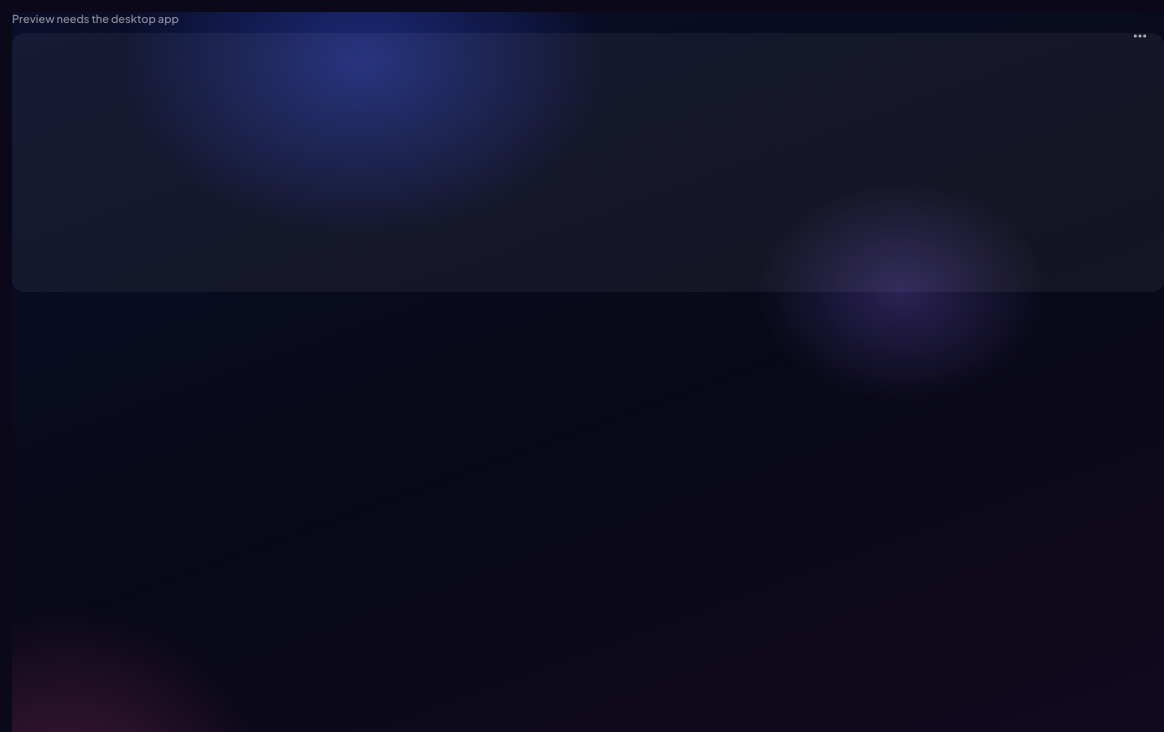
Scenario: WebViewWidget › renders the persisted home and lands the sandbox attributes
Right-click the element with test id "day-webview".
right_click(588, 152)  # box [12, 12, 1163, 292]
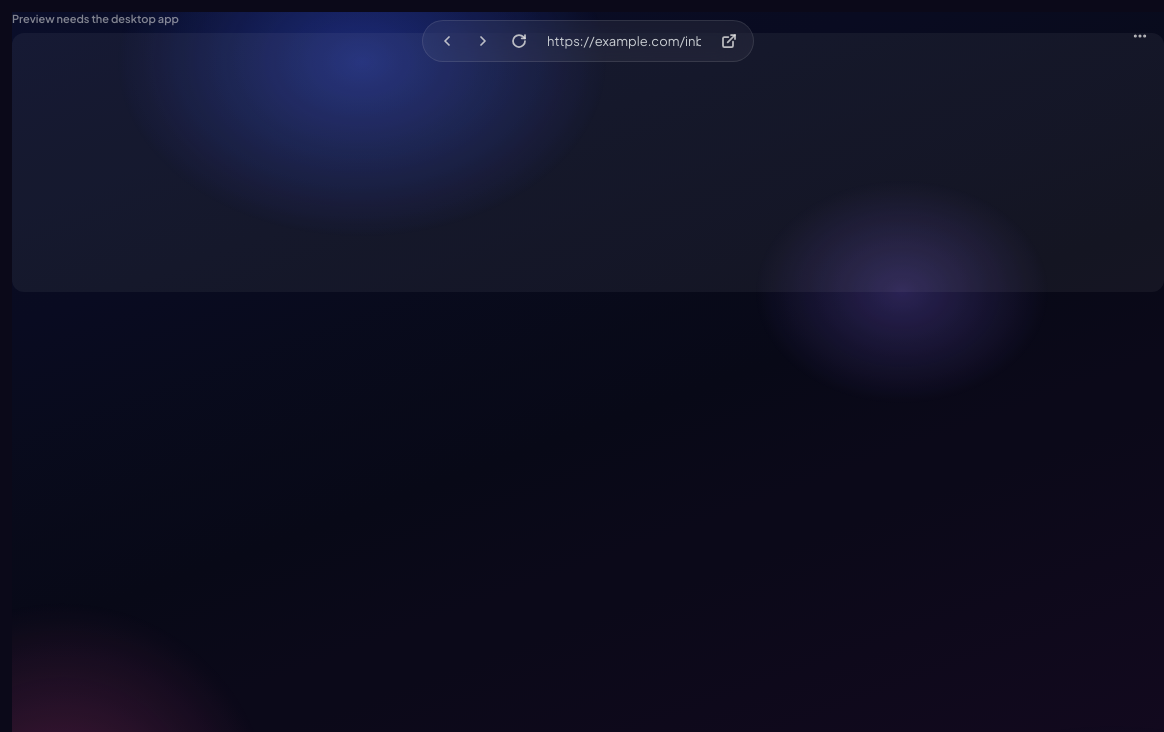
Check: the field named "Web address" holds "https://example.com/inbox", box [539, 29, 709, 53]
